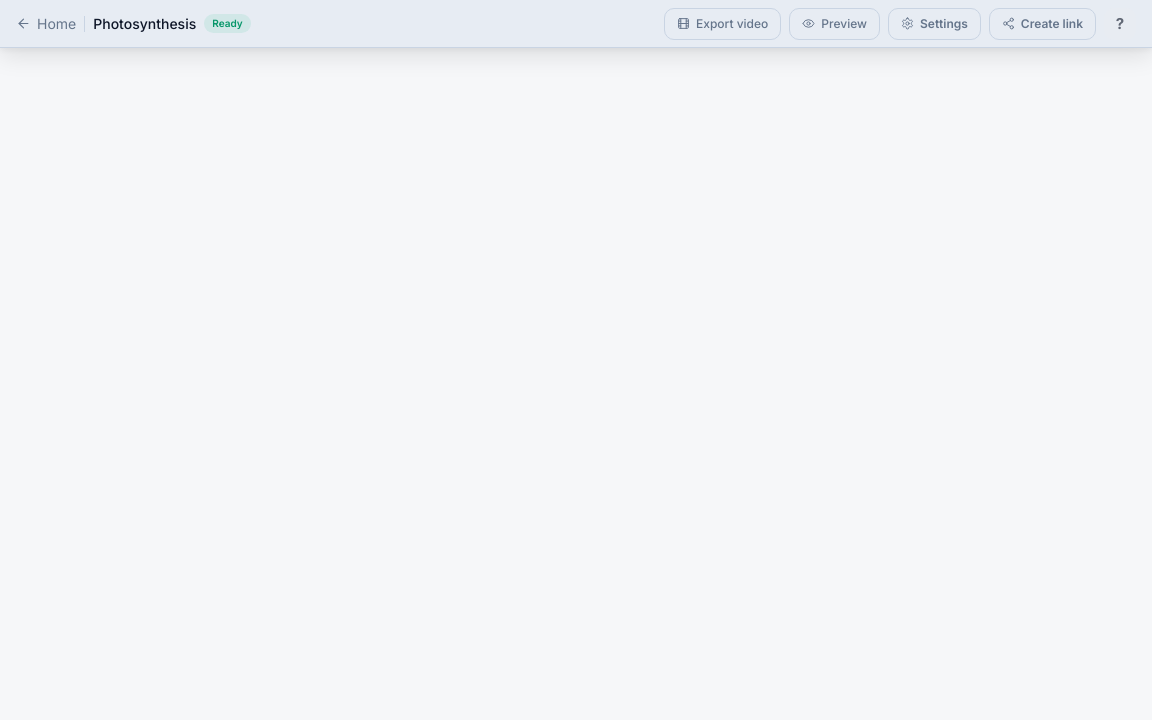
Test: start → poll → ready → download › joins an already-running export instead of pretending to start a new one
Click the button "Export video". click: (723, 24)
box: top-left (664, 8), bottom-right (781, 40)
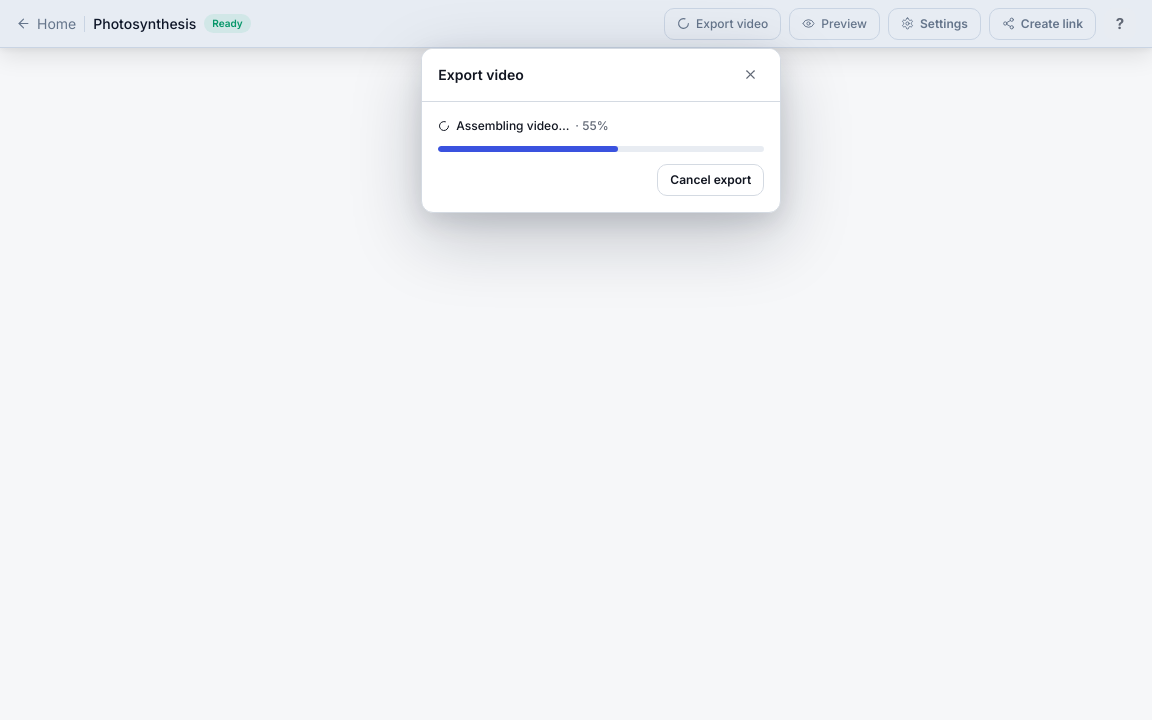
Now the text "Assembling video…" is shown, box top-left (456, 118), bottom-right (569, 132)
